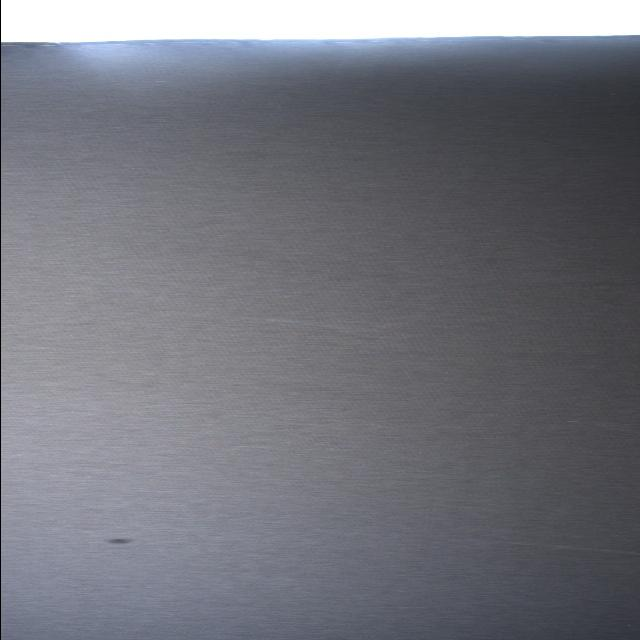crease: (4, 310, 406, 345), (270, 274, 634, 299), (491, 537, 640, 560)
